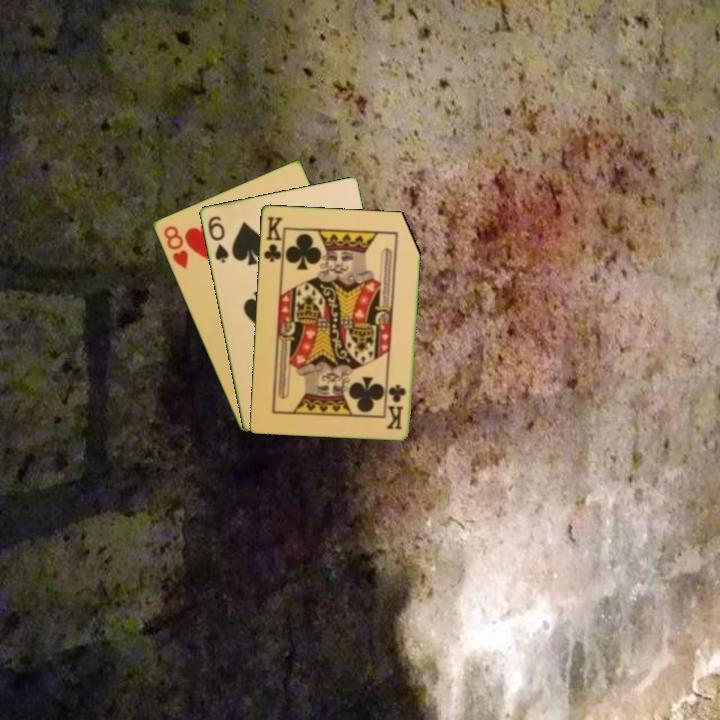6s: (204, 212, 231, 266)
8h: (159, 222, 191, 272)
Kc: (260, 213, 286, 268), (384, 380, 408, 432)
